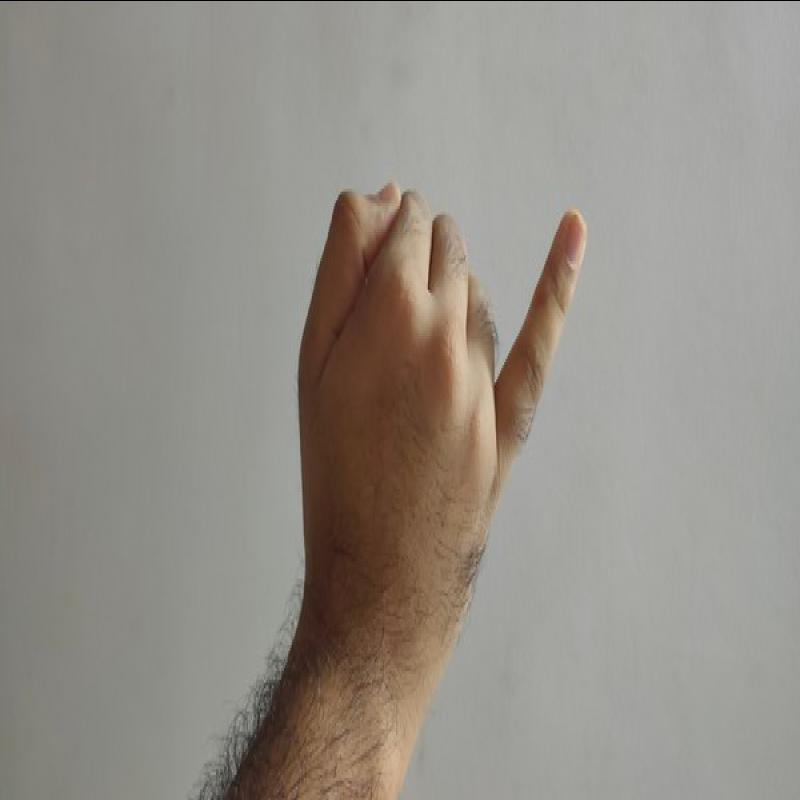Kartharee Mukham: (288, 162, 595, 679)
